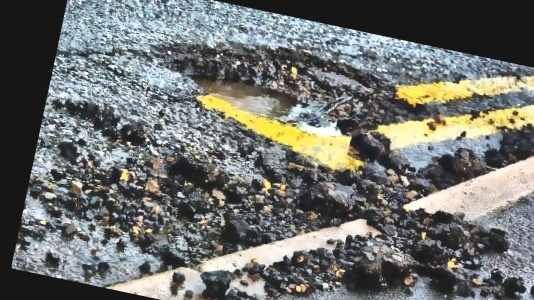pothole: (141, 16, 438, 150)
